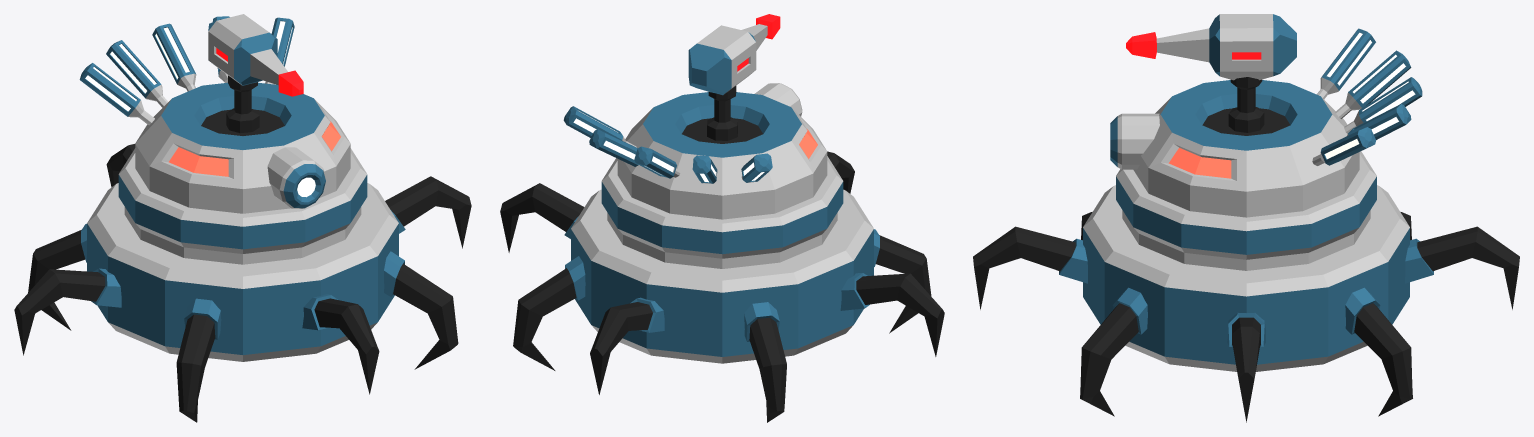
File: GiantRobot.fbx
3 views of the same model, side by side, from view 1: azimuth 30°, elevation 25°; view 2: azimuth 150°, elevation 25°; view 3: azimuth 270°, elevation 25° (orthographic). The views are drawn at different scales.
Parts seen in each view (by area): view 1: GiantRobotBody_ex, GiantCannon_ex; view 2: GiantRobotBody_ex, GiantCannon_ex; view 3: GiantRobotBody_ex, GiantCannon_ex.
Part boxes in pixels (<box>): GiantRobotBody_ex: <box>14,16,471,422</box>; GiantCannon_ex: <box>208,14,303,96</box>; GiantRobotBody_ex: <box>500,83,944,422</box>; GiantCannon_ex: <box>688,14,780,95</box>; GiantRobotBody_ex: <box>973,28,1519,422</box>; GiantCannon_ex: <box>1126,14,1296,80</box>.
Bounding box in the file's own units: 17.54 × 12.03 × 17.54.
